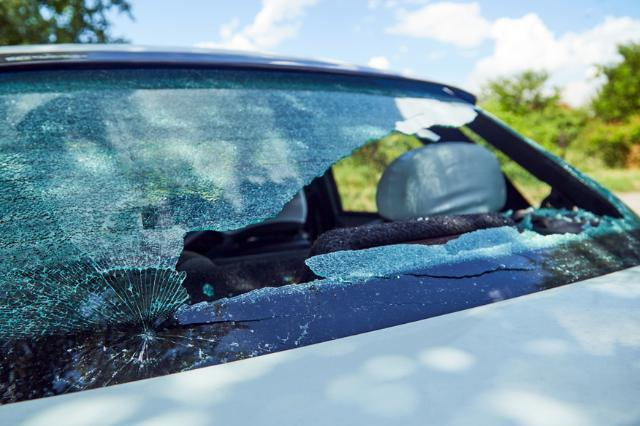Windshield: (0, 60, 640, 352)
